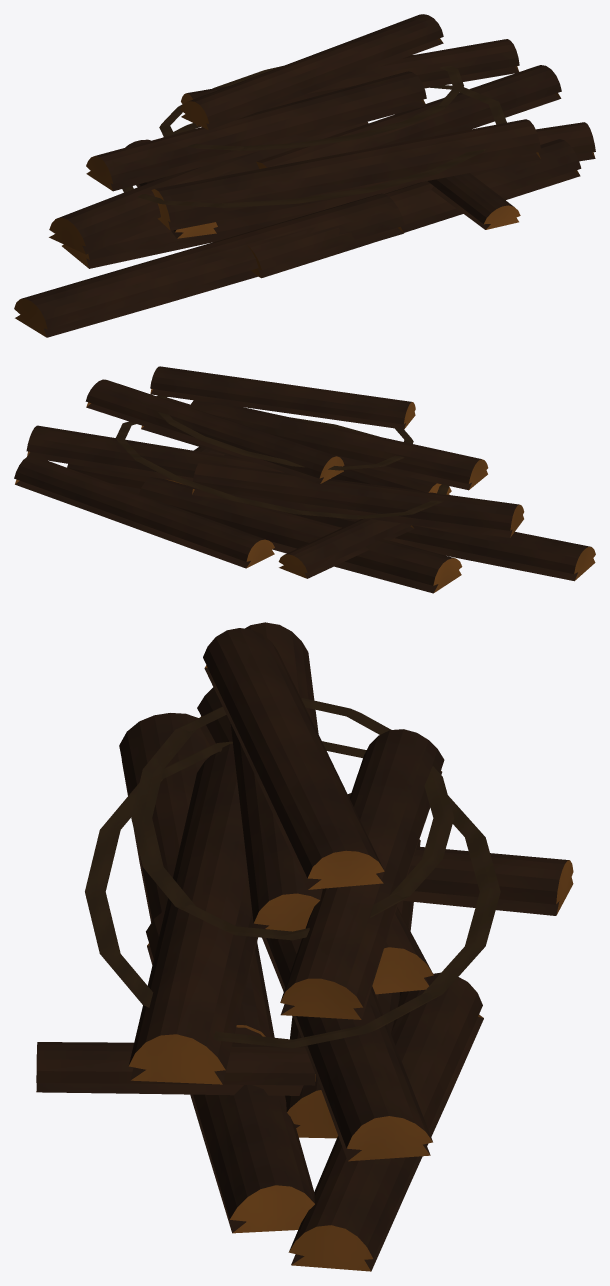
Rendered from yard_firewood_stack.glb.
The picture shows the model from 3 angles, top to bottom: view 1: azimuth 30°, elevation 25°; view 2: azimuth 150°, elevation 25°; view 3: azimuth 270°, elevation 25°; orthographic projection. The views are drawn at different scales.
Parts seen in each view (by area): view 1: Billets, YardCord; view 2: Billets, YardCord; view 3: Billets, YardCord.
Boxes of the visible parts, x1,y1,x2,y2 form: Billets: (14,14,595,337); YardCord: (122,55,506,207); Billets: (14,366,595,593); YardCord: (116,395,449,519); Billets: (36,622,573,1271); YardCord: (85,698,500,1048).
Size of the model in its own units: 2.07 by 0.551 by 0.9245.
3 materials, 3 textured.
